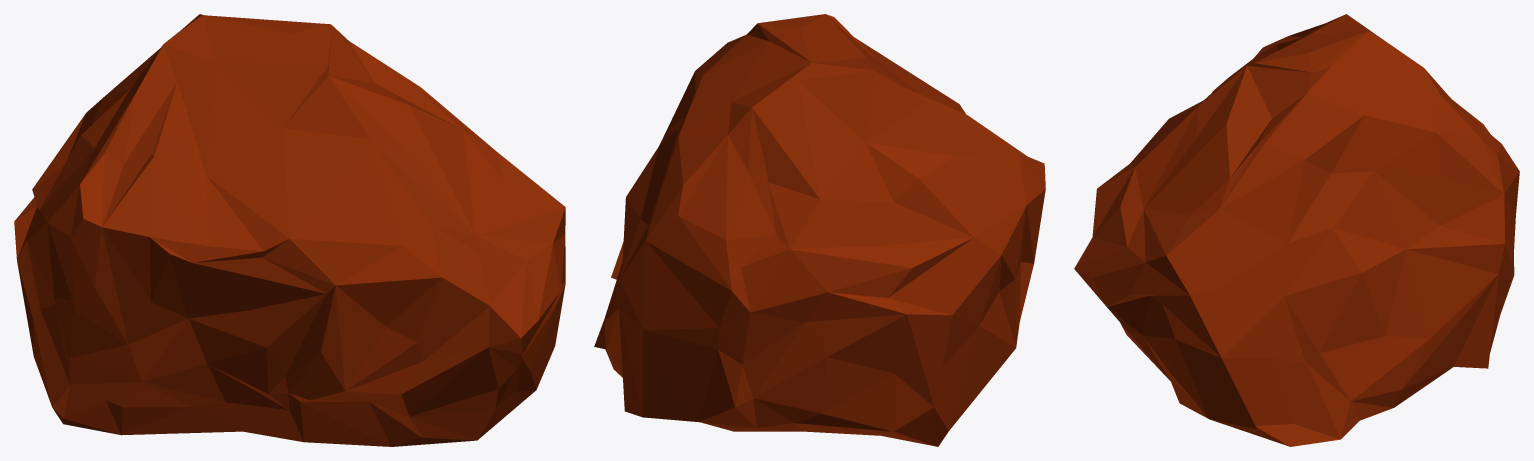
Rendered from Stone_04.glb.
3 views of the same model, side by side, from view 1: azimuth 30°, elevation 25°; view 2: azimuth 150°, elevation 25°; view 3: azimuth 270°, elevation 25° (orthographic). The views are drawn at different scales.
Parts seen in each view (by area): view 1: Stone_04; view 2: Stone_04; view 3: Stone_04.
Part boxes in pixels (x1,y1,x2,y2): Stone_04: [14, 14, 565, 446]; Stone_04: [594, 14, 1045, 446]; Stone_04: [1074, 14, 1519, 446].
Size of what is drawn, in the model's own units: 1.51 by 1.18 by 1.5.
Materials: 1 (1 with a texture image).
